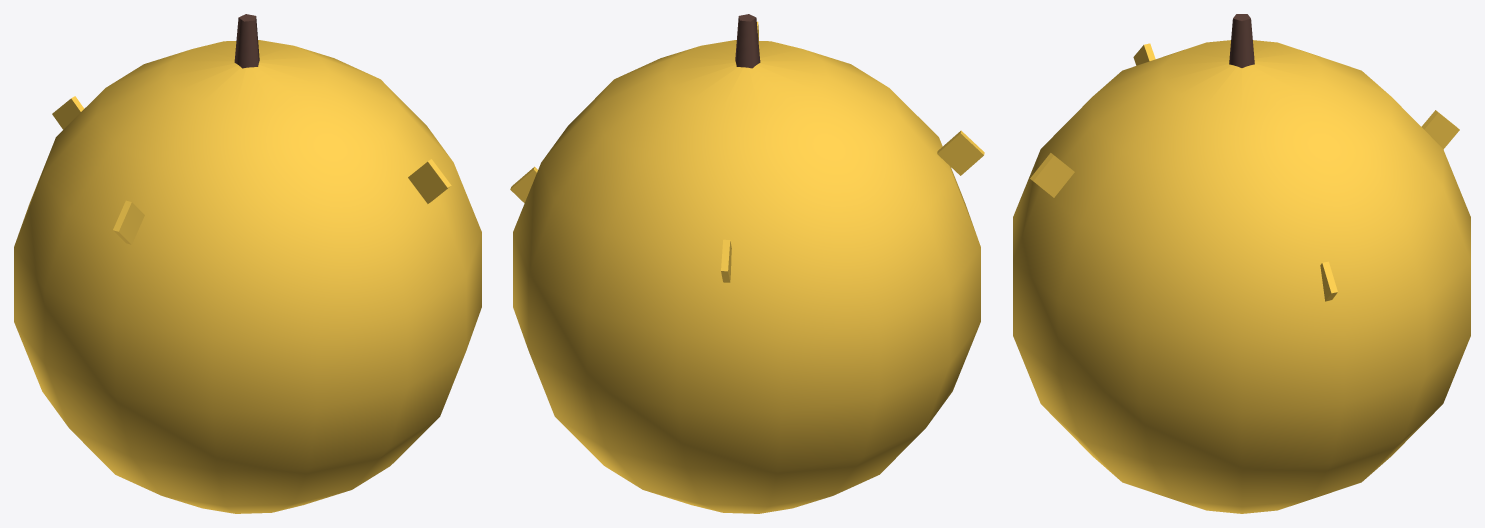
File: fruit-blueberry-gold.gltf
3 views of the same model, side by side, from view 1: azimuth 30°, elevation 25°; view 2: azimuth 150°, elevation 25°; view 3: azimuth 270°, elevation 25° (orthographic).
Size of the model in its own units: 0.2364 by 0.264 by 0.2304.
